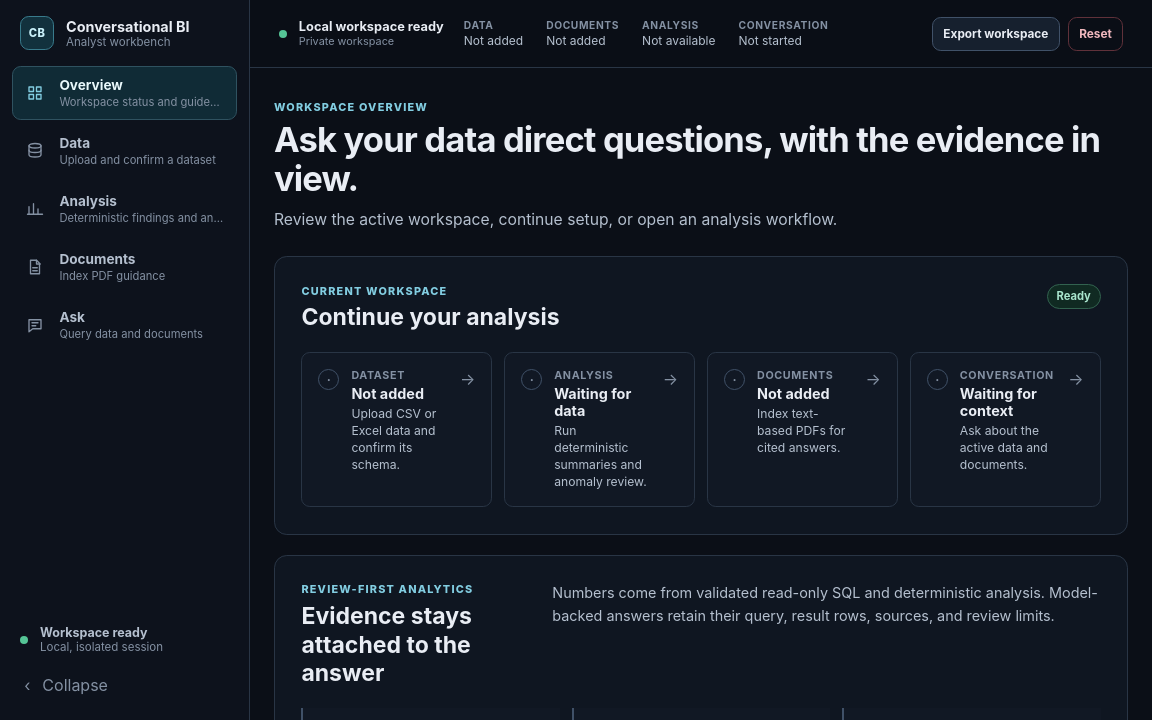
Test case: tabular analysis journey › provides deep-linkable navigation with active state and focus management
Expected: the text "Local workspace ready" is shown, [299,19,444,34]
Click the link "Documents Index PDF guidance" at (96, 267), box [26,251,165,283]
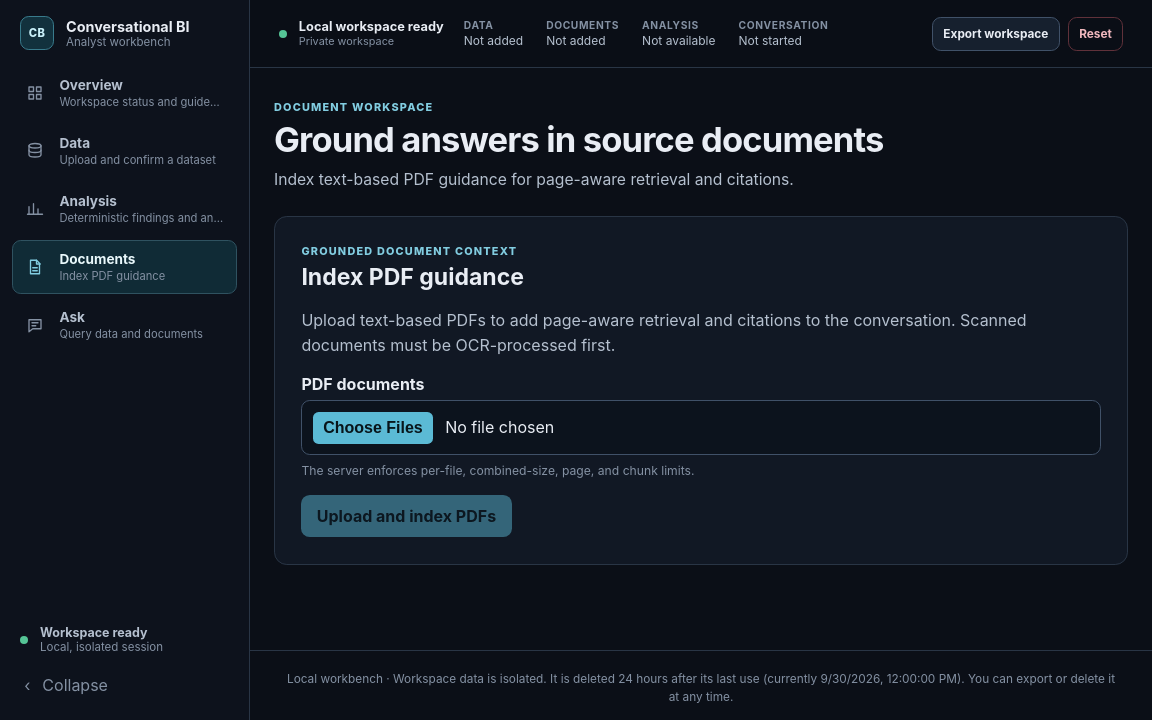
Expected: the heading "Ground answers in source documents" is shown, [274,119,884,160]
